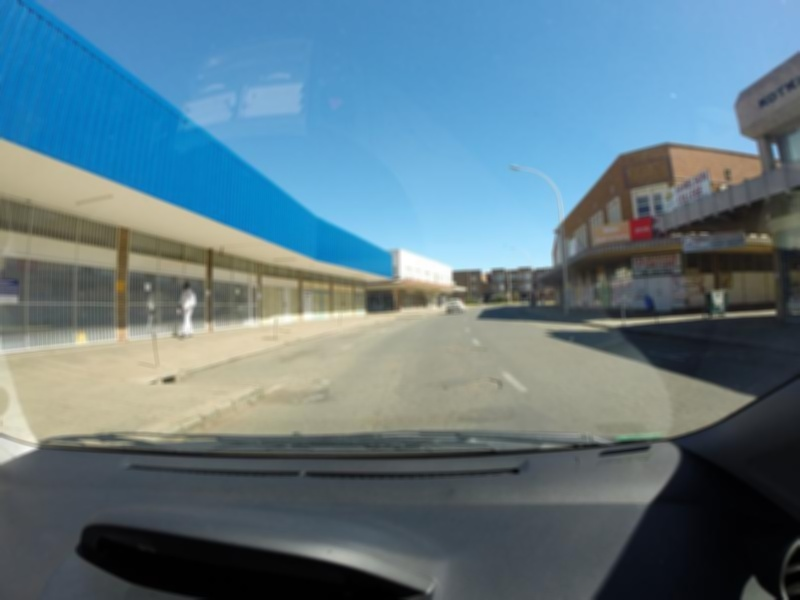pothole: (438, 371, 506, 399), (442, 342, 491, 358)
